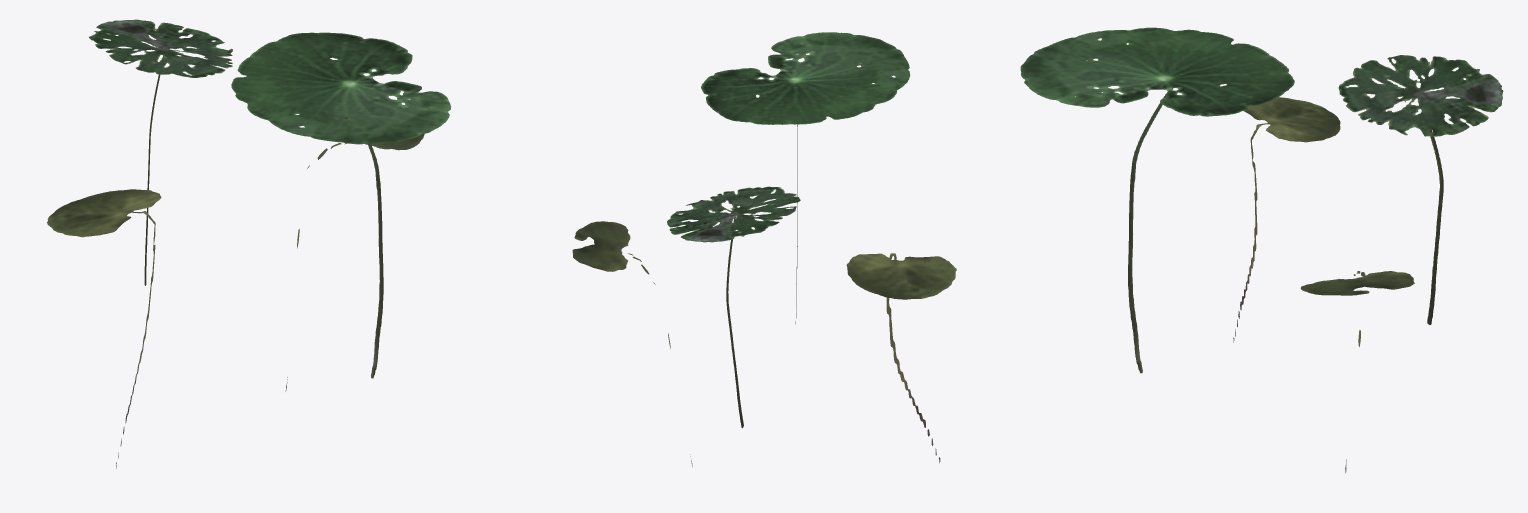
Rendered from arden_forest_water_plants_02_foliage.fbx.
3 renders of one model, left to right at view 1: azimuth 30°, elevation 25°; view 2: azimuth 150°, elevation 25°; view 3: azimuth 270°, elevation 25°, orthographic. The views are drawn at different scales.
Parts seen in each view (by area): view 1: arden_forest_water_plants_02_foliage; view 2: arden_forest_water_plants_02_foliage; view 3: arden_forest_water_plants_02_foliage.
Part boxes in pixels (<box>): arden_forest_water_plants_02_foliage: <box>47,19,451,468</box>; arden_forest_water_plants_02_foliage: <box>572,32,956,467</box>; arden_forest_water_plants_02_foliage: <box>1020,27,1503,473</box>.
Bounding box in the file's own units: 52.36 × 46.19 × 52.39.
